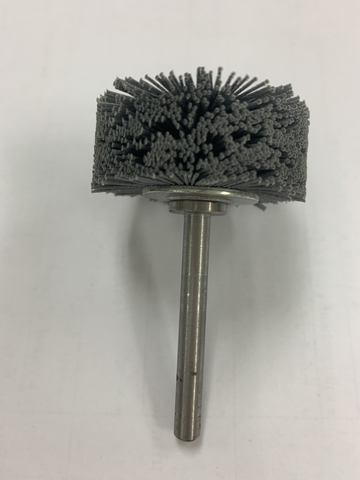Wheel Brush: (81, 54, 312, 448), (89, 62, 313, 431), (98, 90, 321, 404), (59, 47, 322, 273)
